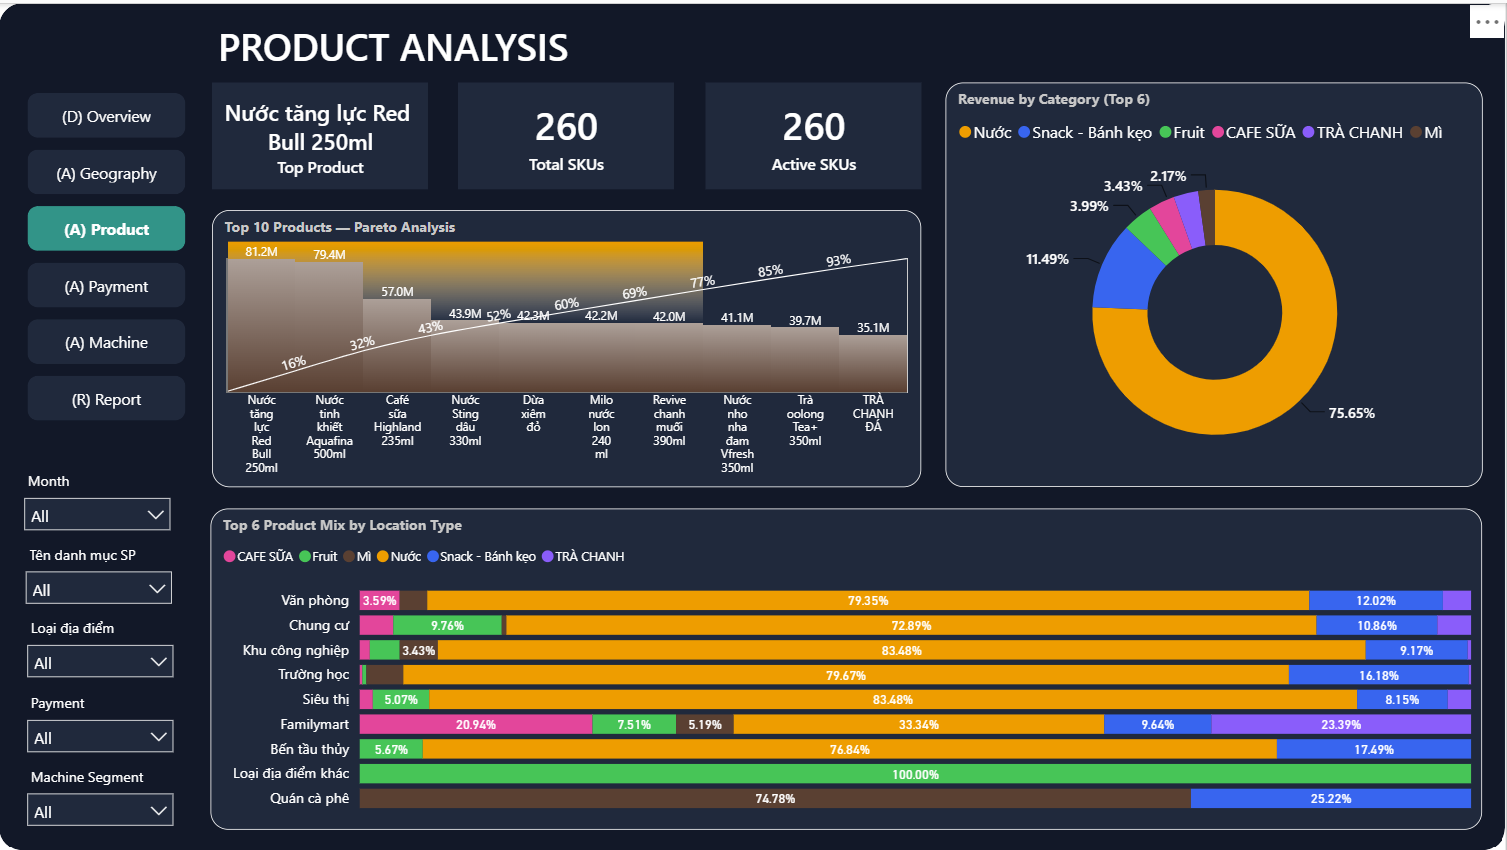

The dashboard page shown, as its layout file describes it:
{"tool":"powerbi","page":{"name":"(A) Product","canvas":[1280,720],"ordinal":2},"visuals":[{"type":"group","id":"g1","title":"Background","box":[0,0,1279.6,720.6],"z":0},{"type":"shape","box":[0,0,1279.1,720],"z":0,"group":"g1"},{"type":"slicer","fields":{"Values":["dDate.MonthName"]},"box":[11.9,391.7,143.7,59.3],"z":0,"group":"g2"},{"type":"textbox","box":[180.8,8.9,373.1,54.7],"z":1000},{"type":"slicer","fields":{"Values":["dSanPham.Tên danh mục SP"]},"box":[13.2,454.3,143.7,59.3],"z":1000,"group":"g2"},{"type":"group","id":"g2","title":"Filter","box":[11.9,391.7,146.4,309.9],"z":2000},{"type":"slicer","fields":{"Values":["dDiaDiemCha.Loại địa điểm"]},"box":[14.5,517,143.7,59.3],"z":2000,"group":"g2"},{"type":"paretoEDD8E69761BA4B7BB3AA6D813990D7BF","title":"Top 10 Products — Pareto Analysis","fields":{"categories":["dSanPham.Tên sản phẩm"],"values":["fBanHang.SUM_Sales"]},"box":[180.4,175.8,602.3,235.4],"z":3000},{"type":"slicer","fields":{"Values":["dPaymentType.PaymentName"]},"box":[14.5,579.6,143.7,59.3],"z":3000,"group":"g2"},{"type":"card","fields":{"Values":["CountNonNull(dSanPham.ProductId)"]},"box":[390.2,67.5,183.3,90.4],"z":4000},{"type":"slicer","fields":{"Values":["fBanHang.Machine Segment"]},"box":[14.5,642.3,143.7,59.3],"z":4000,"group":"g2"},{"type":"card","fields":{"Values":["fBanHang.Top Product"]},"box":[180.8,67.5,183.3,90.4],"z":5000},{"type":"card","fields":{"Values":["Count(fBanHang.ProductId)"]},"box":[599.7,67.5,183.3,90.4],"z":6000},{"type":"donutChart","title":"Revenue by Category (Top 6)","fields":{"Category":["dSanPham.Tên danh mục SP"],"Y":["Sum(fBanHang.Sales)"]},"box":[803.8,67.8,455.8,343.5],"z":7000},{"type":"hundredPercentStackedBarChart","title":"Top 6 Product Mix by Location Type","fields":{"Y":["Sum(fBanHang.Sales)"],"Category":["dDiaDiemCha.Loại địa điểm"],"Series":["dSanPham.Tên danh mục SP"]},"box":[180.1,429.1,1079.5,272.4],"z":8000},{"type":"pageNavigator","box":[23.7,76.5,134.5,283.5],"z":9000}]}

Visuals, with their boxes on the page's 1280x720 design canvas (x1, y1, x2, y2). These are canvas units, not pixel positions in the 1507x850 screenshot, which may show the page scaled, cropped or inside an application window:
"Background" group: 0/0/1280/721
shape: 0/0/1279/720
slicer - dDate.MonthName: 12/392/156/451
textbox: 181/9/554/64
slicer - dSanPham.Tên danh mục SP: 13/454/157/514
"Filter" group: 12/392/158/702
slicer - dDiaDiemCha.Loại địa điểm: 14/517/158/576
"Top 10 Products — Pareto Analysis" paretoEDD8E69761BA4B7BB3AA6D813990D7BF: 180/176/783/411
slicer - dPaymentType.PaymentName: 14/580/158/639
card - CountNonNull(dSanPham.ProductId): 390/68/574/158
slicer - fBanHang.Machine Segment: 14/642/158/702
card - fBanHang.Top Product: 181/68/364/158
card - Count(fBanHang.ProductId): 600/68/783/158
"Revenue by Category (Top 6)" donutChart: 804/68/1260/411
"Top 6 Product Mix by Location Type" hundredPercentStackedBarChart: 180/429/1260/702
pageNavigator: 24/76/158/360
